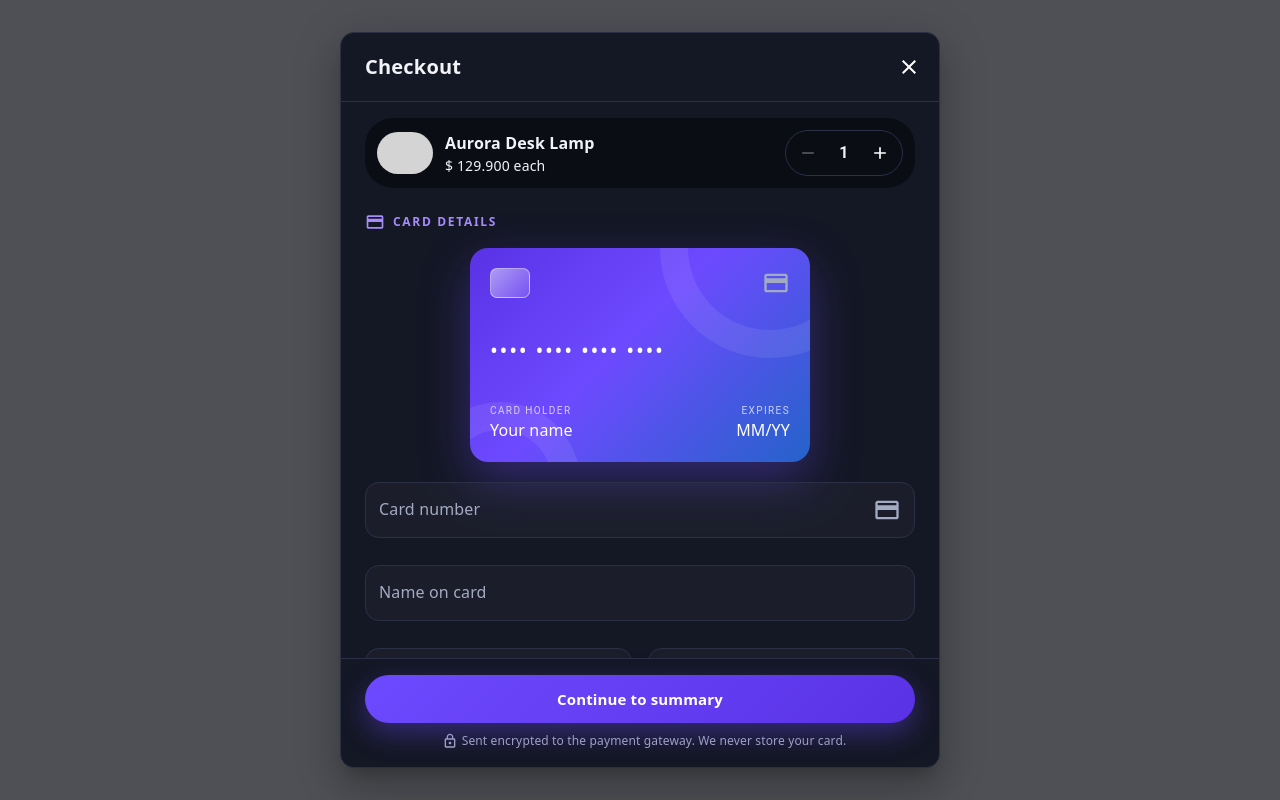
Scenario: CheckoutDialog › AC-5 AC-6 AC-7: submitting an empty form shows every validation message
What coordinates should you click on to do the following:
click the button "Continue to summary"
I would click on:
 (640, 699)
Its box is [365, 675, 915, 723].
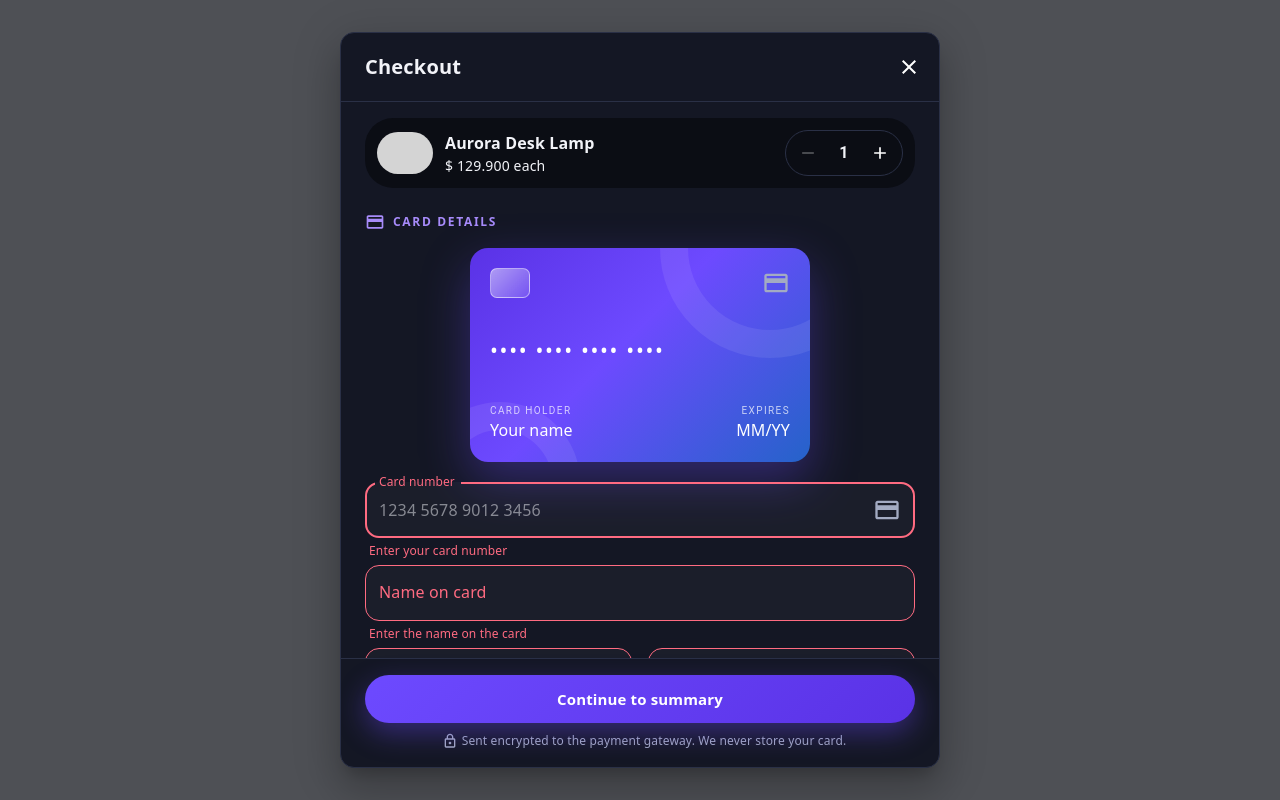
Expected: the text "Enter your card number" is shown, [369, 542, 507, 559]
Expected: the text "Enter the name on the card" is shown, [369, 625, 527, 642]
